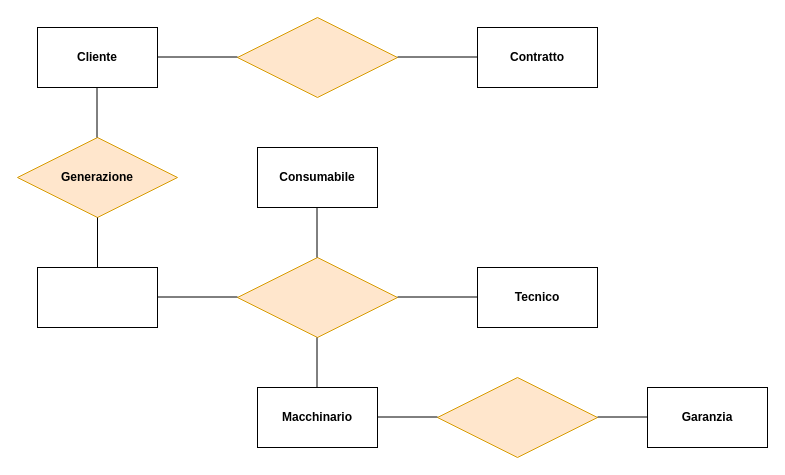
Some shapes in this 785 by 475 pixel diagram are drawn without their labels. Each missing label, with the centre of its shape:
Assistenza: [317,297]
Installazione: [517,417]
Stipulazione: [317,57]
Ticket: [97,297]
